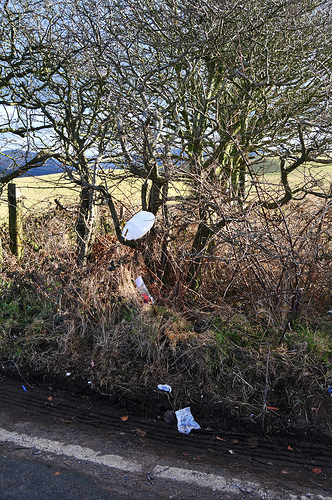litter: (121, 213, 154, 241), (174, 408, 201, 435), (134, 276, 154, 304), (157, 382, 171, 392)
